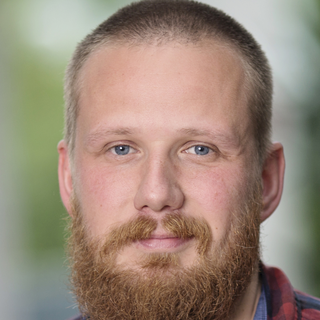eye: (97, 140, 142, 161), (175, 141, 220, 161)
